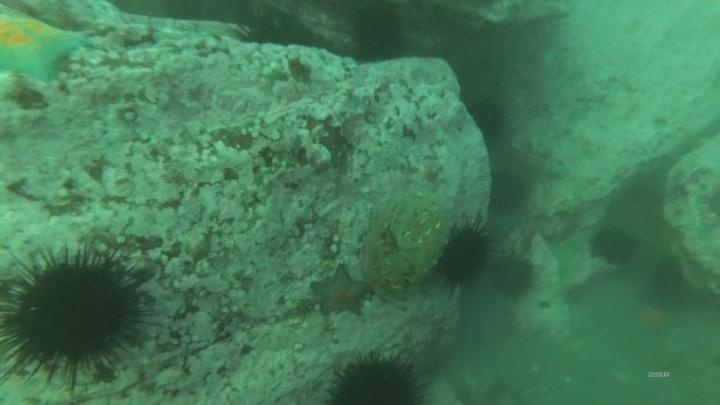echinus: (0, 242, 154, 387), (325, 350, 430, 404), (433, 220, 496, 290), (346, 3, 409, 62), (463, 95, 513, 149), (488, 252, 538, 299), (589, 223, 640, 267), (645, 256, 689, 307), (487, 166, 531, 215)
starfish: (0, 13, 88, 86), (309, 263, 373, 320), (628, 301, 678, 339)
